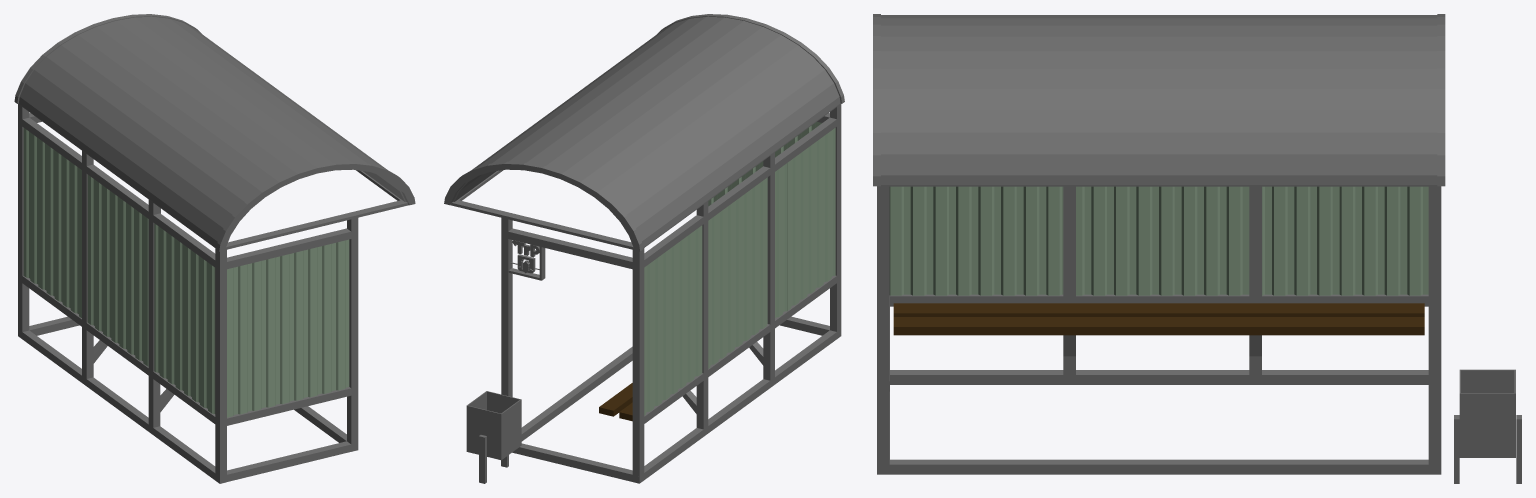
File: bus stop test for trp v2.fbx
3 views of the same model, side by side, from view 1: azimuth 30°, elevation 25°; view 2: azimuth 150°, elevation 25°; view 3: azimuth 270°, elevation 25° (orthographic). The views are drawn at different scales.
Parts seen in each view (by area): view 1: Cube.058, Cube.047; view 2: Cube.058, Cube.047, Cube.022; view 3: Cube.058, Cube.047, Cube.022.
Part boxes in pixels (x1,y1,x2,y2): Cube.058: [14, 14, 415, 483]; Cube.047: [23, 128, 349, 417]; Cube.058: [444, 14, 844, 483]; Cube.047: [644, 122, 835, 415]; Cube.022: [599, 383, 632, 421]; Cube.058: [873, 14, 1521, 483]; Cube.047: [889, 186, 1428, 295]; Cube.022: [893, 303, 1424, 335].
Bounding box in the file's own units: 1122 × 1657 × 2300.
